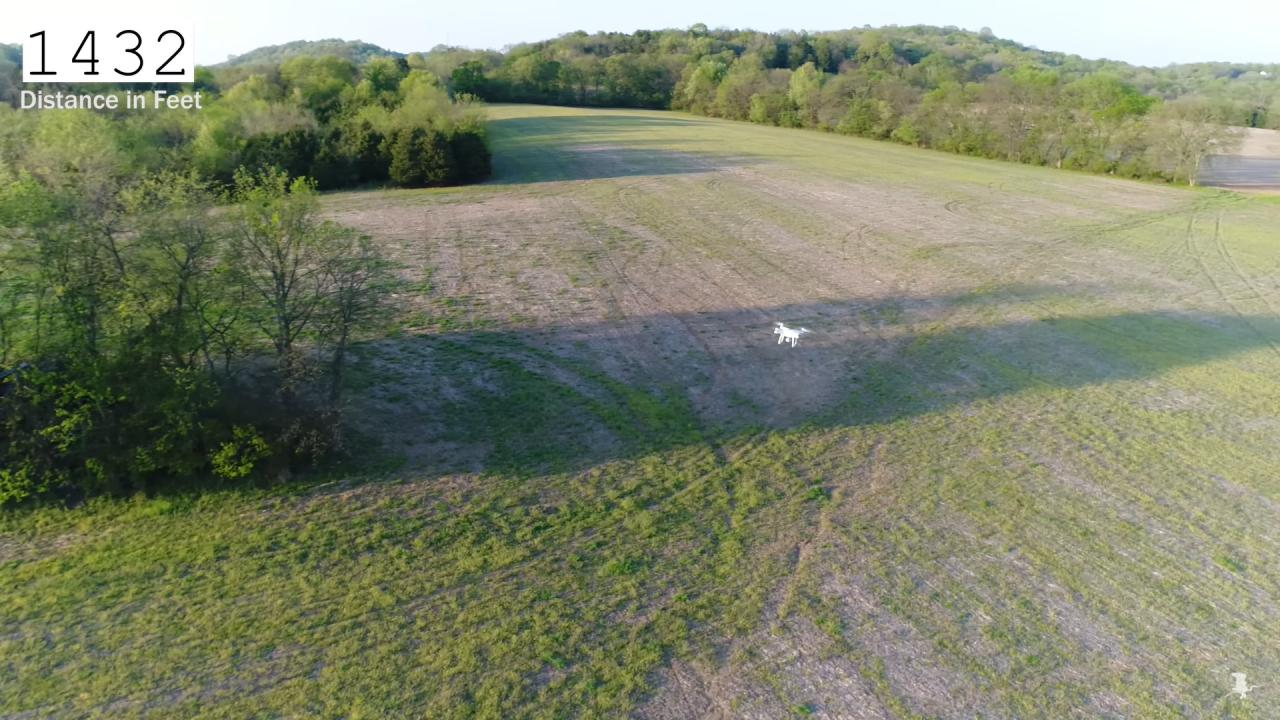Drone: (764, 316, 820, 354)
